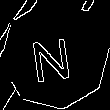N_N: (32, 27, 78, 83)
